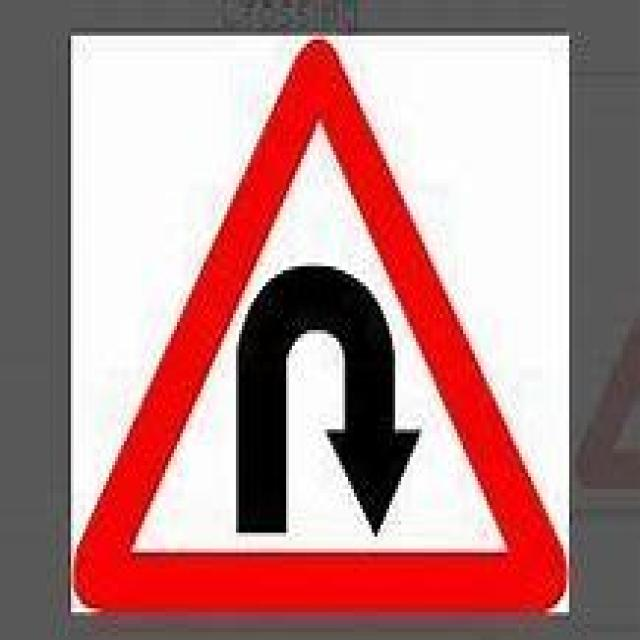RIGHT_HAIR_PIN_BEND: (70, 35, 570, 617)
